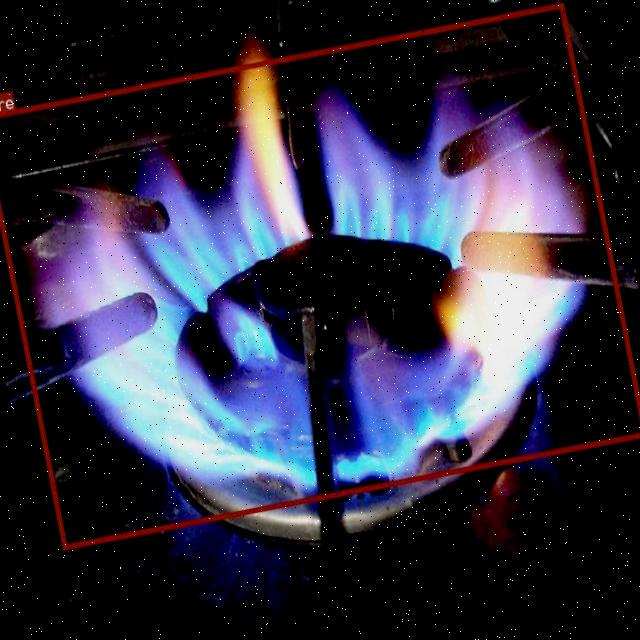fire: (0, 1, 640, 548)
